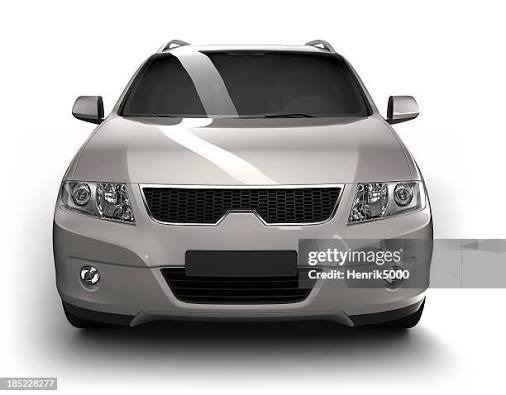car: (64, 31, 425, 322)
